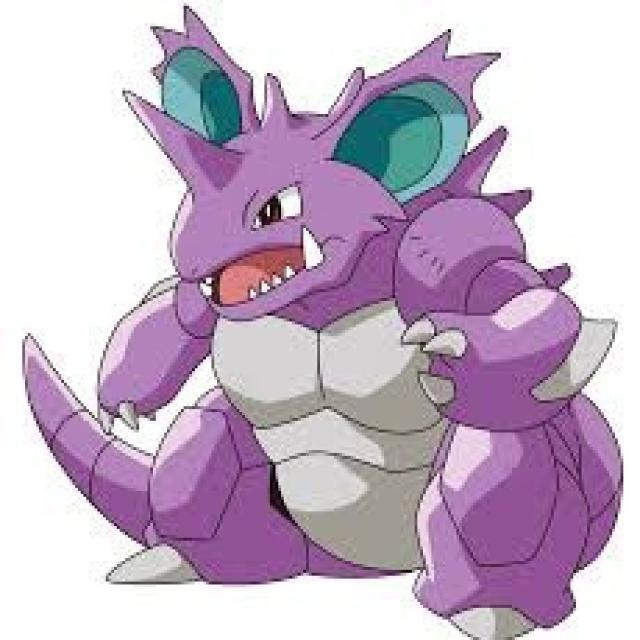Nidoking: (123, 20, 588, 583)
